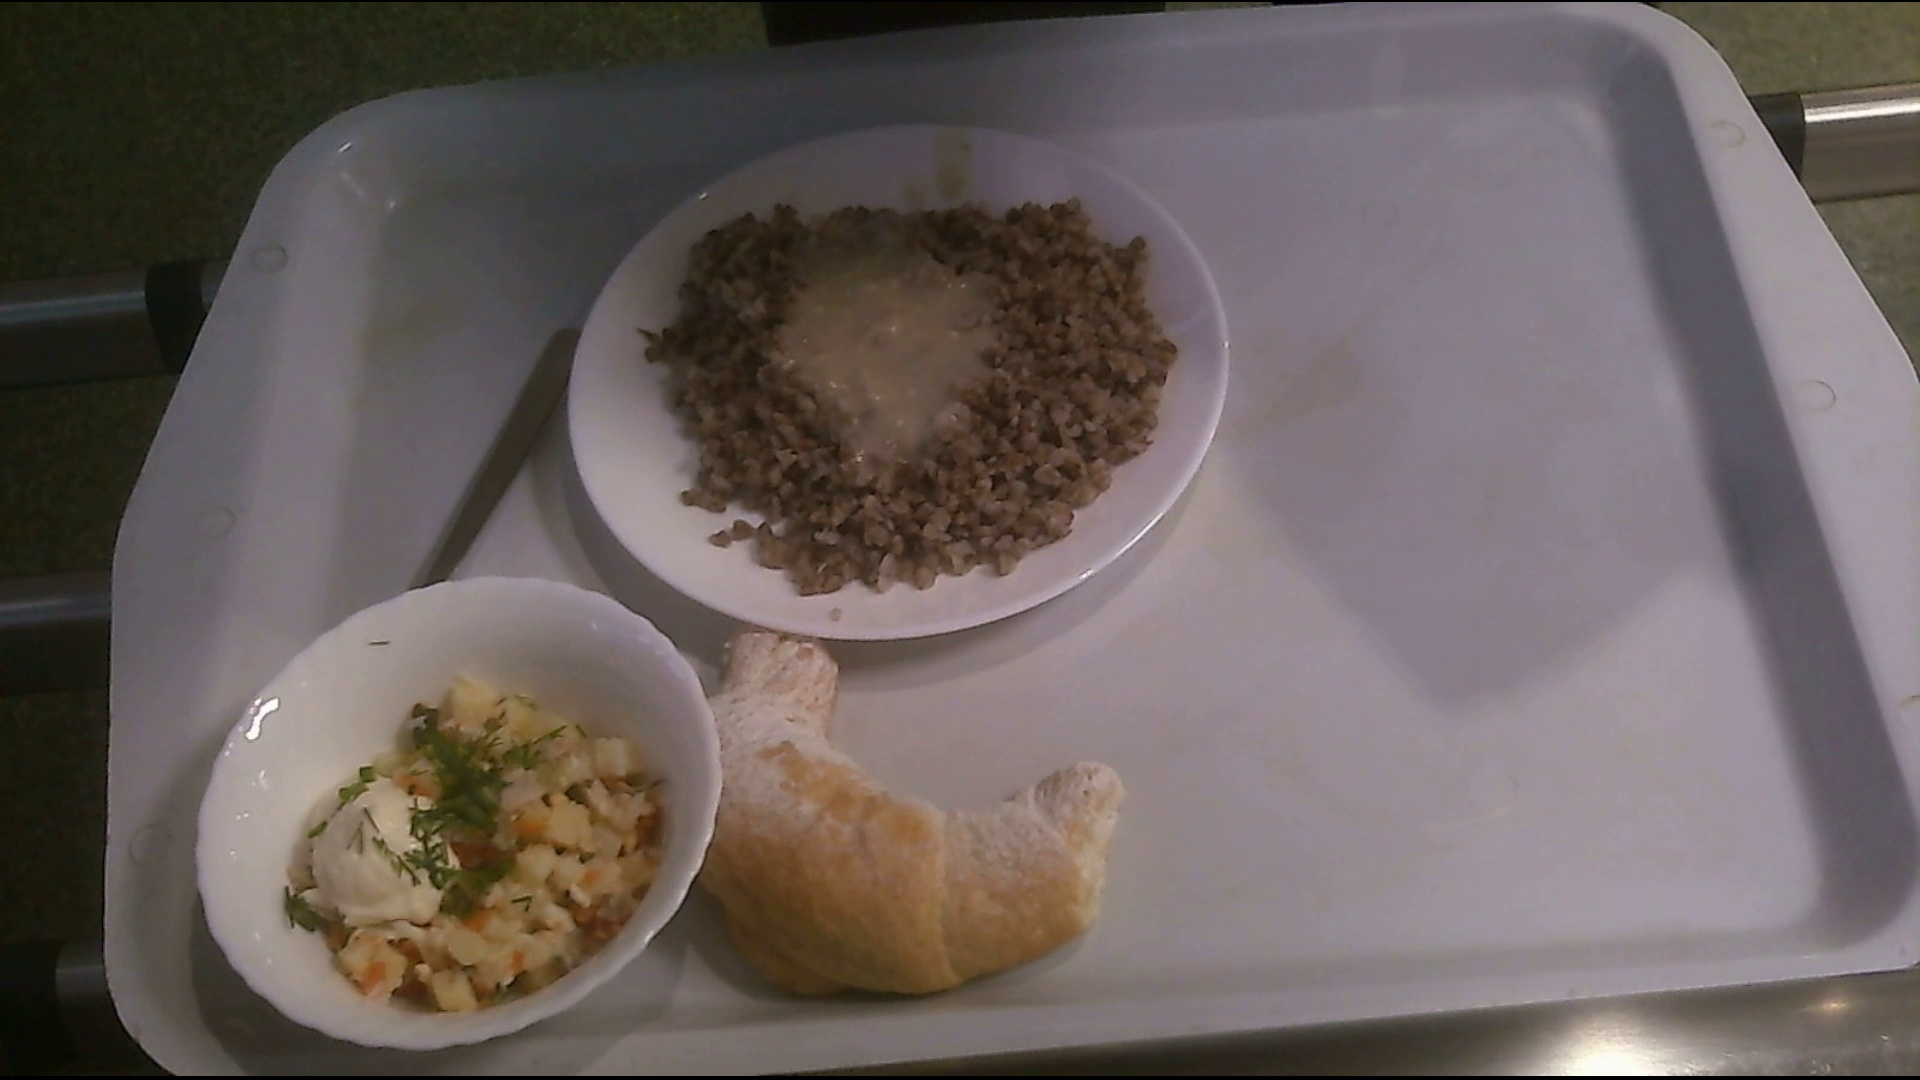bowl: (196, 582, 724, 1034)
other: (699, 626, 1133, 1006)
plate: (575, 137, 1230, 644)
